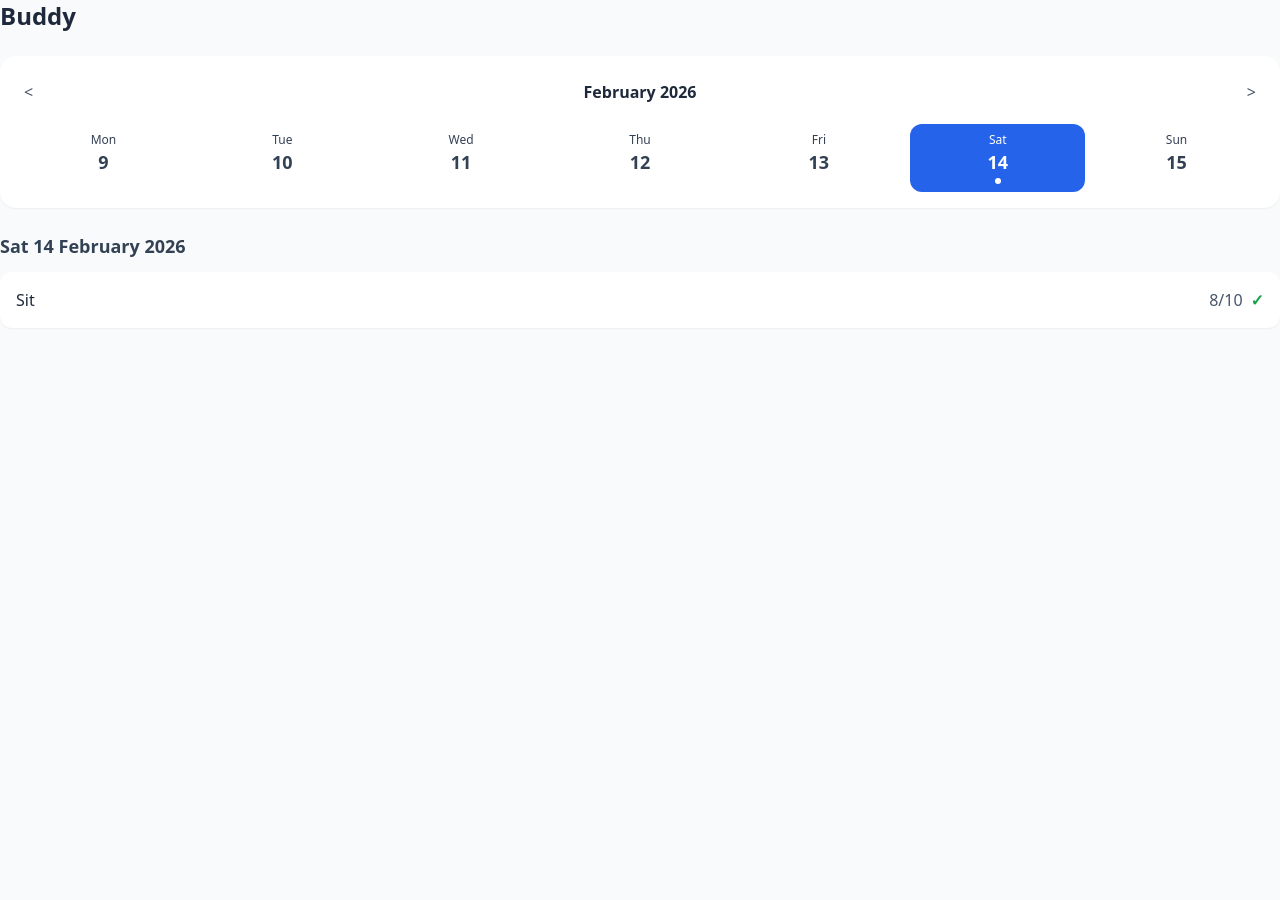
Progress › edit button opens sheet with pre-filled data
The width and height of the screenshot is (1280, 900).
Click the text "Sit": (25, 300) [16,288,35,312]
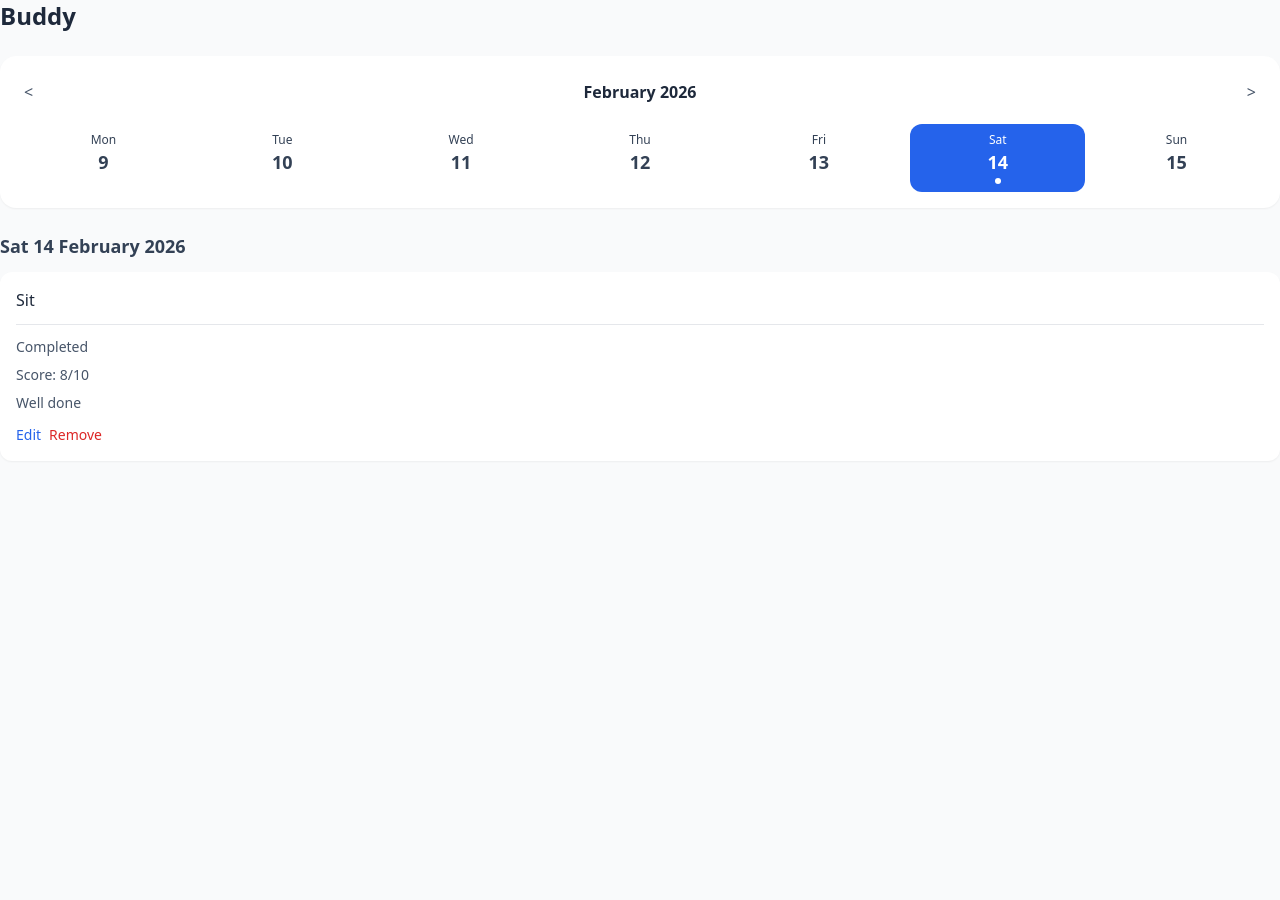
expect the button "Edit" is shown: met
# Click Edit
Click the button "Edit": (29, 435) [16,425,41,445]
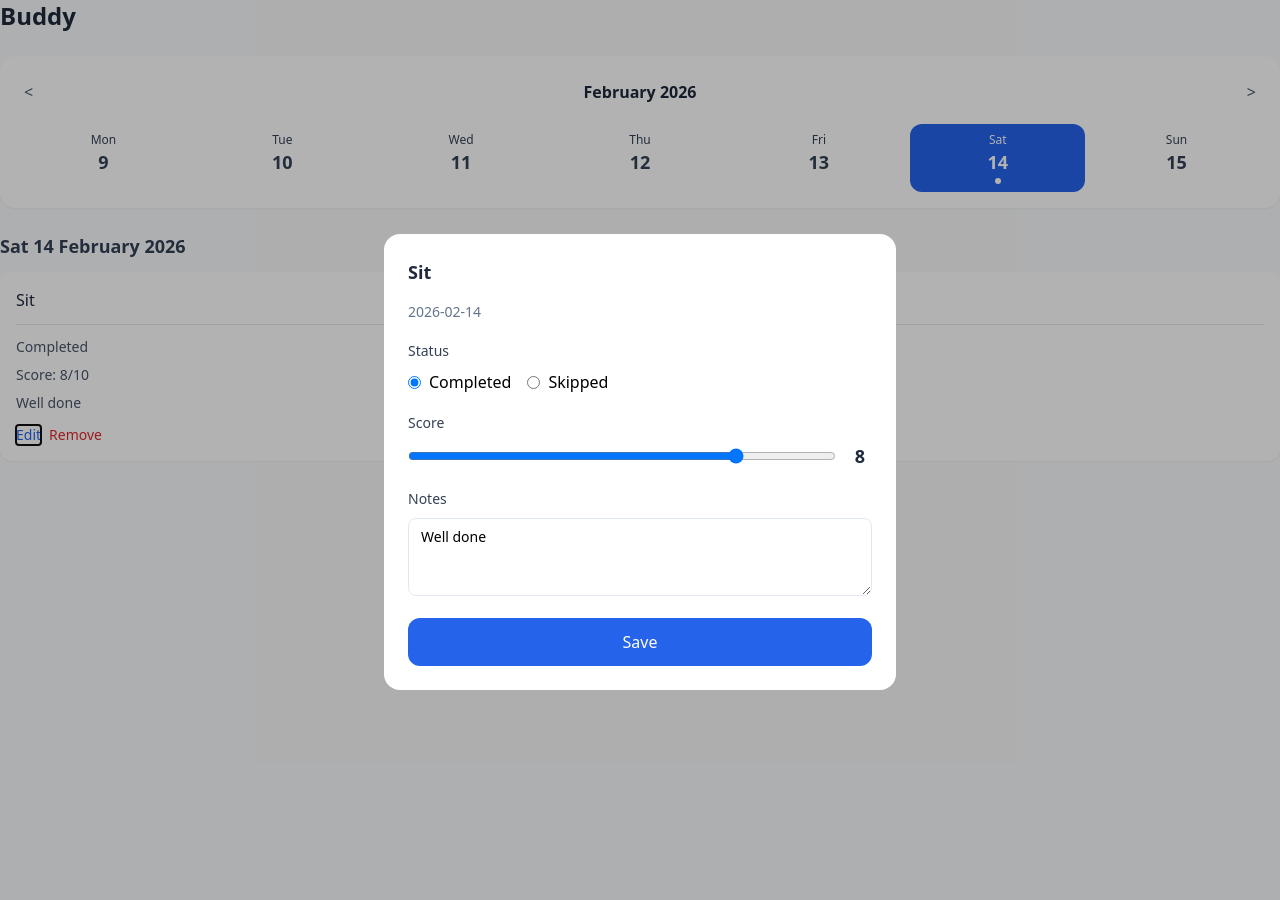
expect the radio button labelled "Completed" is checked: met, box [408,376,421,388]
expect the slider labelled "Score" holds "8": met, box [408,448,836,464]
expect the text "8" is shown: met, box [855,444,865,468]
